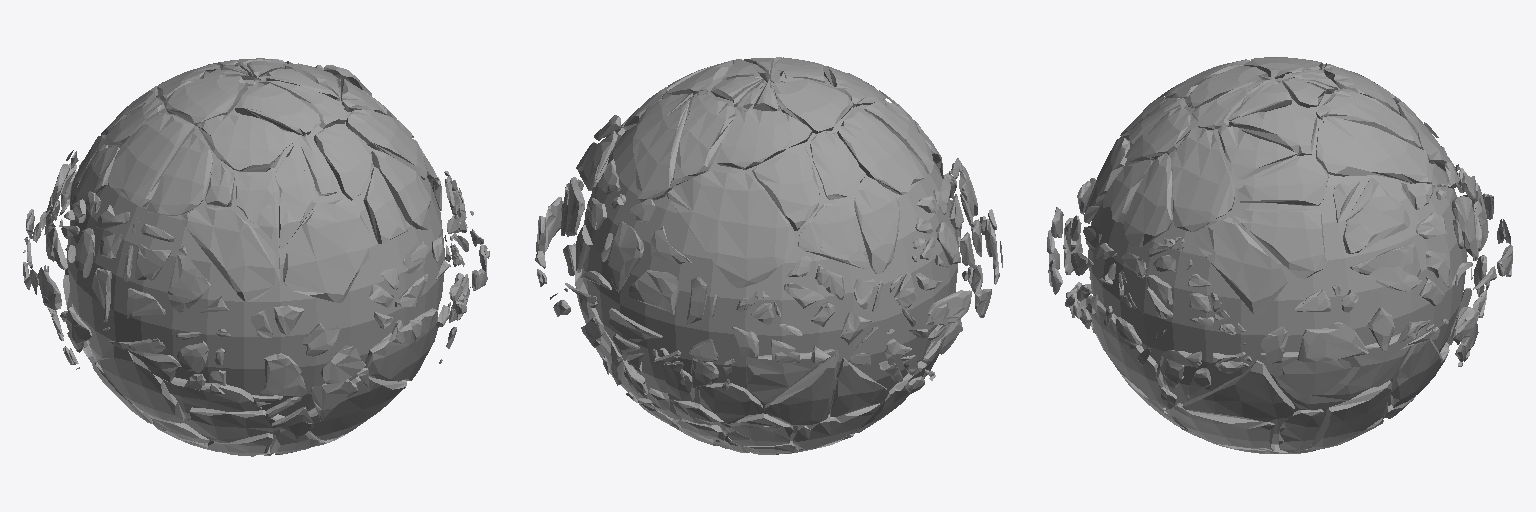
File: planet.obj
3 views of the same model, side by side, from view 1: azimuth 30°, elevation 25°; view 2: azimuth 150°, elevation 25°; view 3: azimuth 270°, elevation 25° (orthographic).
Visible parts, largest first — view 1: Sphere, Sphere_cell.085_Mesh.179, Sphere_cell.016_Mesh.116, Sphere_cell.060_Mesh.160, Sphere_cell.073_Mesh.167, Sphere_cell.018_Mesh.118, Sphere_cell.059_Mesh.159, Sphere_cell.031_Mesh.131, Sphere_cell.086_Mesh.180, Sphere_cell.045_Mesh.145, Sphere_cell.093_Mesh.187, Sphere_cell.010_Mesh.110 (+28 smaller); view 2: Sphere, Sphere_cell.056_Mesh.156, Sphere_cell.035_Mesh.135, Sphere_cell.060_Mesh.160, Sphere_cell.052_Mesh.152, Sphere_cell.084_Mesh.178, Sphere_cell.021_Mesh.121, Sphere_cell.002_Mesh.102, Sphere_cell.086_Mesh.180, Sphere_cell.043_Mesh.143, Sphere_cell.048_Mesh.148, Sphere_cell.076_Mesh.170 (+28 smaller); view 3: Sphere, Sphere_cell.035_Mesh.135, Sphere_cell.063_Mesh.163, Sphere_cell.096_Mesh.190, Sphere_cell.012_Mesh.112, Sphere_cell.039_Mesh.139, Sphere_cell.095_Mesh.189, Sphere_cell.008_Mesh.108, Sphere_cell.055_Mesh.155, Sphere_cell.030_cell.085_Mesh.473, Sphere_cell.046_Mesh.146, Sphere_cell.072_Mesh.166 (+28 smaller).
Boxes of the visible parts, box(x1,y1,x2,y2) form: Sphere: box(67, 79, 444, 446); Sphere_cell.085_Mesh.179: box(283, 199, 370, 302); Sphere_cell.016_Mesh.116: box(181, 207, 279, 301); Sphere_cell.060_Mesh.160: box(108, 113, 194, 207); Sphere_cell.073_Mesh.167: box(197, 115, 297, 171); Sphere_cell.018_Mesh.118: box(146, 133, 212, 215); Sphere_cell.059_Mesh.159: box(97, 346, 185, 423); Sphere_cell.031_Mesh.131: box(308, 376, 406, 440); Sphere_cell.086_Mesh.180: box(164, 74, 247, 125); Sphere_cell.045_Mesh.145: box(364, 308, 438, 380); Sphere_cell.093_Mesh.187: box(314, 126, 372, 200); Sphere_cell.010_Mesh.110: box(235, 83, 320, 135); Sphere: box(582, 70, 958, 440); Sphere_cell.056_Mesh.156: box(667, 171, 794, 287); Sphere_cell.035_Mesh.135: box(633, 93, 693, 201); Sphere_cell.060_Mesh.160: box(837, 106, 927, 194); Sphere_cell.052_Mesh.152: box(717, 109, 812, 169); Sphere_cell.084_Mesh.178: box(673, 91, 736, 185); Sphere_cell.021_Mesh.121: box(752, 145, 819, 230); Sphere_cell.002_Mesh.102: box(854, 176, 899, 273); Sphere_cell.086_Mesh.180: box(774, 77, 852, 133); Sphere_cell.043_Mesh.143: box(764, 350, 838, 425); Sphere_cell.048_Mesh.148: box(810, 132, 860, 199); Sphere_cell.076_Mesh.170: box(747, 349, 836, 403); Sphere: box(1088, 77, 1467, 443); Sphere_cell.035_Mesh.135: box(1316, 116, 1431, 183); Sphere_cell.063_Mesh.163: box(1172, 127, 1234, 231); Sphere_cell.096_Mesh.190: box(1195, 217, 1287, 317); Sphere_cell.012_Mesh.112: box(1233, 209, 1325, 278); Sphere_cell.039_Mesh.139: box(1261, 332, 1416, 409); Sphere_cell.095_Mesh.189: box(1182, 360, 1294, 421); Sphere_cell.008_Mesh.108: box(1238, 155, 1328, 205); Sphere_cell.055_Mesh.155: box(1124, 153, 1172, 246); Sphere_cell.030_cell.085_Mesh.473: box(1343, 177, 1409, 253); Sphere_cell.046_Mesh.146: box(1308, 380, 1391, 449); Sphere_cell.072_Mesh.166: box(1228, 108, 1317, 155).
Size of the model in its own units: 2.33 by 1.98 by 2.32.